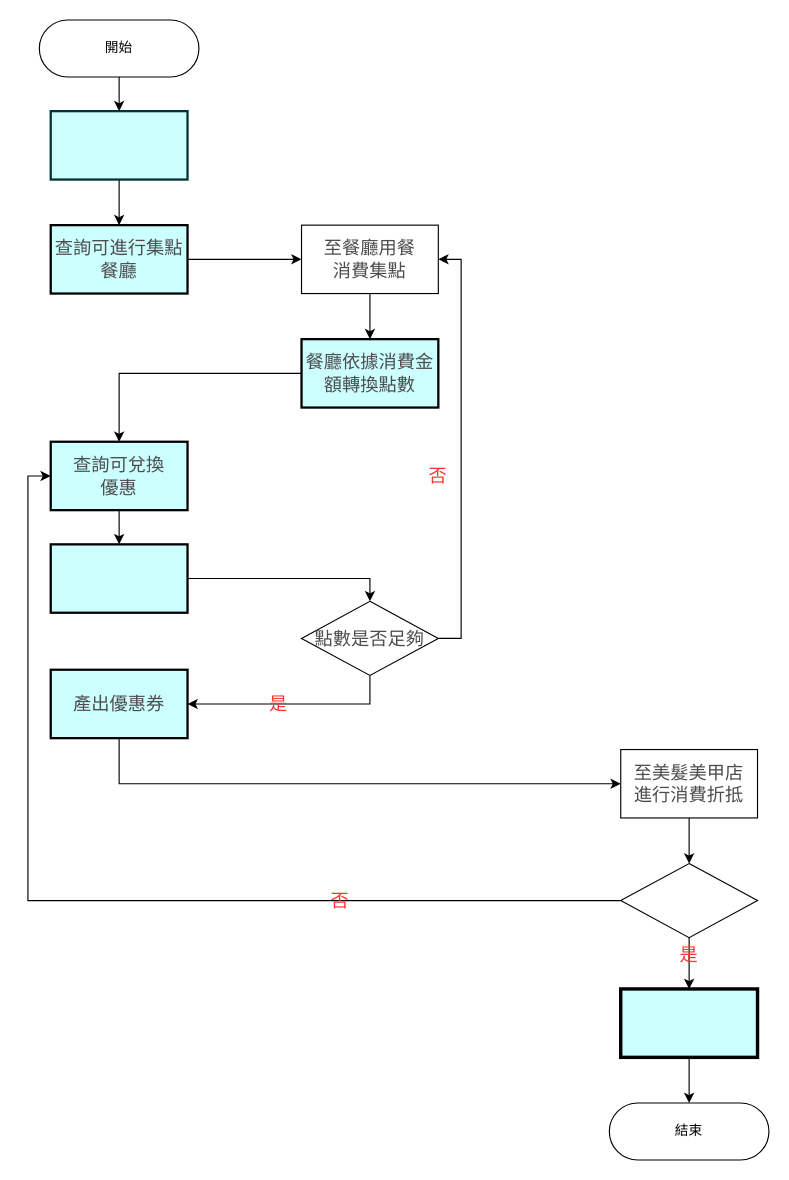
Image size: 789x1180. Some labels were removed from this diagram. Each missing label, with the centre of its shape:
"使用者以line帳號加入會員" goes at [118,144].
"優惠券 是否符合" goes at [689,900].
"進行兌換" goes at [118,578].
"進行核銷" goes at [688,1022].
